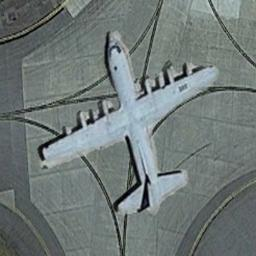Airplane: (38, 29, 219, 216)
